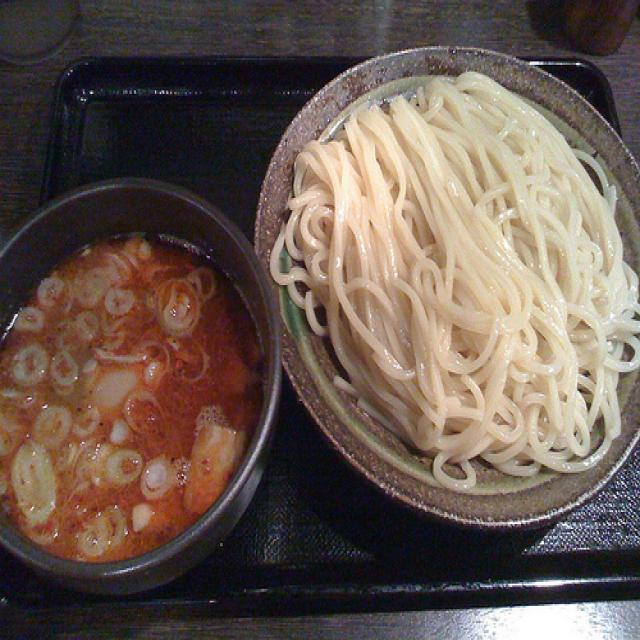面条主食: (8, 87, 628, 579)
